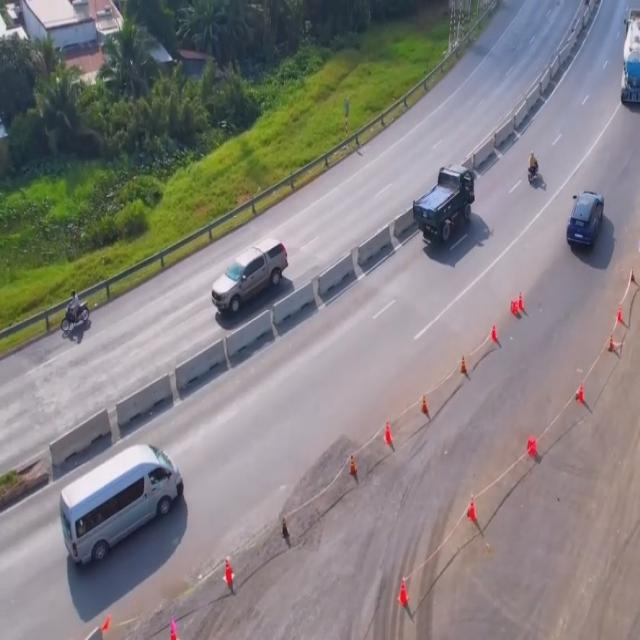car: (64, 446, 190, 575), (210, 236, 288, 316), (562, 192, 604, 256)
motorbike: (61, 291, 92, 337), (526, 154, 541, 188)
truck: (414, 165, 474, 254), (623, 2, 640, 111)
